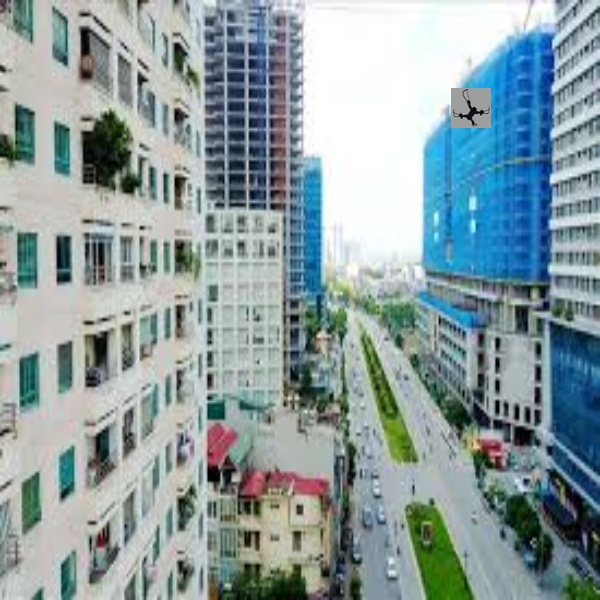drone: (448, 87, 493, 126)
